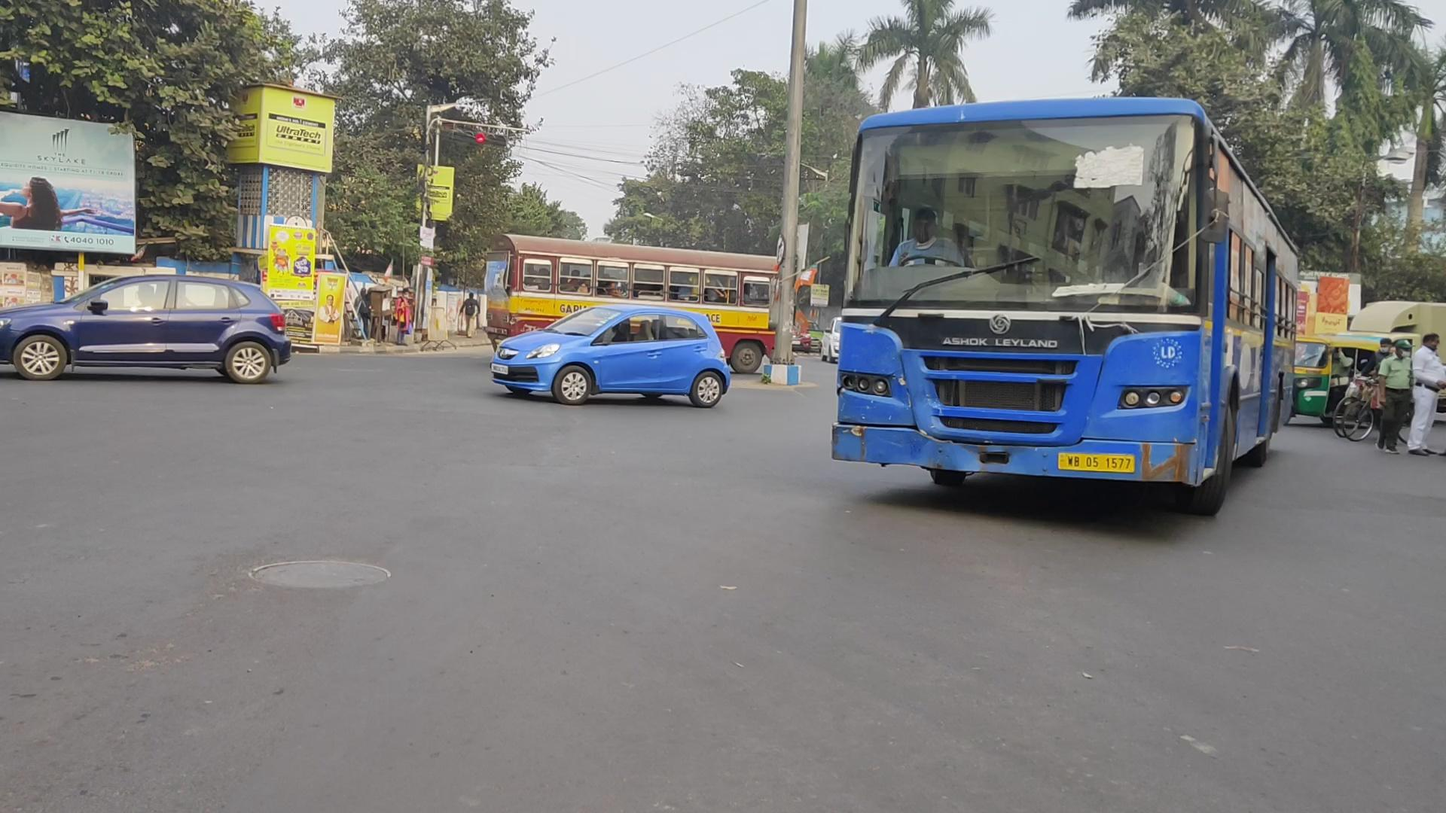Auto: (1294, 333, 1384, 428)
Bus: (830, 96, 1300, 518), (487, 232, 800, 376)
bike: (1332, 340, 1432, 442)
car: (1, 273, 292, 385), (491, 303, 730, 410)
